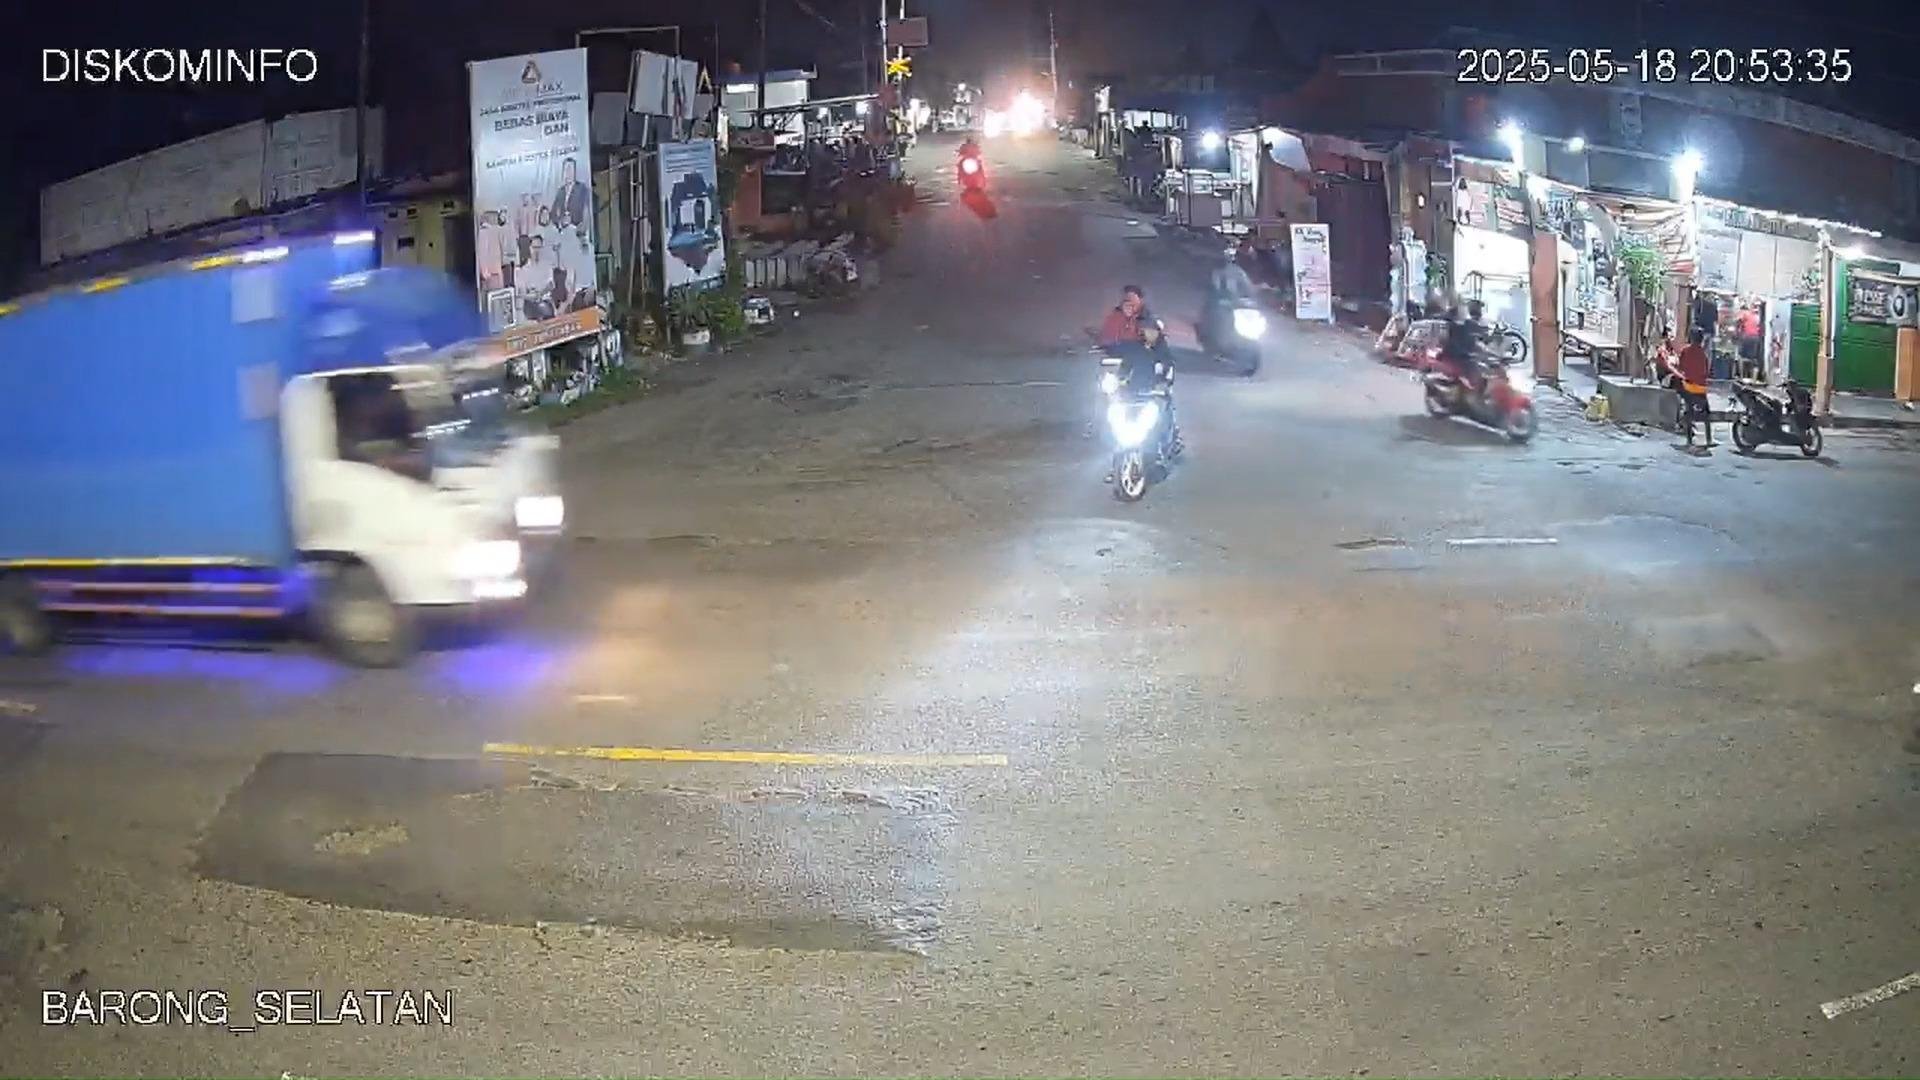Motor: (1106, 309, 1187, 485)
Truck: (3, 256, 583, 680)
